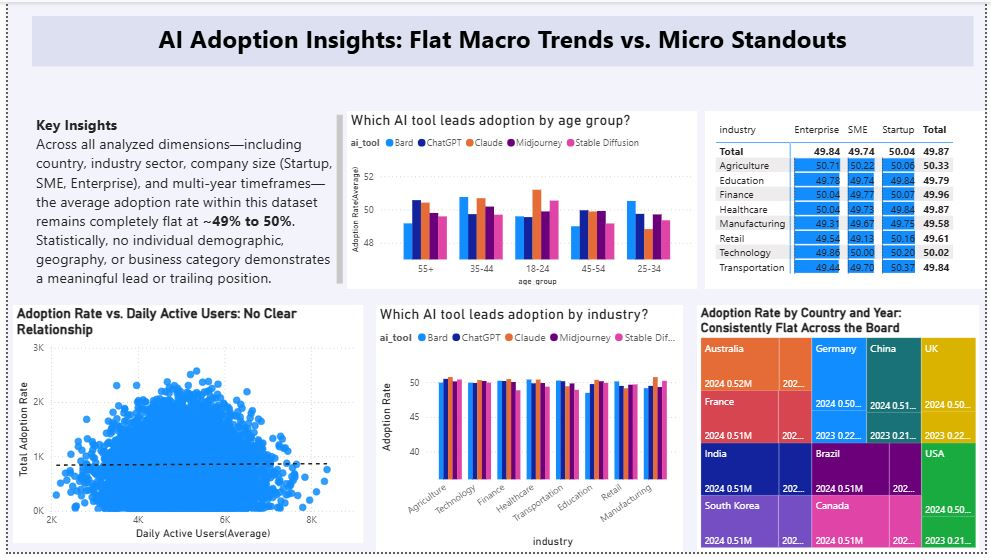

Layout of this report page (visuals, bound fields, positions):
{"tool":"powerbi","page":{"name":"Page 1","canvas":[1280,720],"ordinal":0},"visuals":[{"type":"clusteredColumnChart","title":"Which AI tool leads adoption by industry?","fields":{"Y":["Avg(ADOPTION.adoption_rate)"],"Series":["ADOPTION.ai_tool"],"Category":["ADOPTION.industry"]},"box":[482.4,397.4,401.8,322.6],"z":0},{"type":"treemap","title":"Adoption Rate by Country and Year: Consistently Flat Across the Board","fields":{"Group":["Change By Country.country"],"Details":["Change By Country.year"],"Values":["Sum(Change By Country.adoption_rate)"]},"box":[902.9,397.4,370.1,322.6],"z":1000},{"type":"pivotTable","fields":{"Columns":["Adoption by company size.company_size"],"Rows":["Adoption by company size.industry"],"Values":["Avg(Adoption by company size.adoption_rate)"]},"box":[913,142.6,367.2,233.3],"z":2000},{"type":"scatterChart","title":"Adoption Rate vs. Daily Active Users: No Clear Relationship","fields":{"Category":["relation bw active users and rate.adoption_rate"],"X":["Avg(relation bw active users and rate.daily_active_users)"],"Y":["Sum(relation bw active users and rate.adoption_rate)"]},"box":[7.2,397.4,459.4,312.5],"z":3000},{"type":"clusteredColumnChart","title":"Which AI tool leads adoption by age group?","fields":{"Category":["Agegroup vs tool.age_group"],"Series":["Agegroup vs tool.ai_tool"],"Y":["Avg(Agegroup vs tool.adoption_rate)"]},"box":[443.5,142.6,459.4,233.3],"z":4000},{"type":"textbox","box":[31.7,18.7,1232.6,66.2],"z":5001},{"type":"textbox","box":[32,143,412,233],"z":5002}]}

Visuals, with their boxes in screenshot pixels (x1, y1, x2, y2), scaled from the page's 1280x720 canvas onto the 991x560 screenshot:
"Which AI tool leads adoption by industry?" clusteredColumnChart: [373, 309, 685, 559]
"Adoption Rate by Country and Year: Consistently Flat Across the Board" treemap: [699, 309, 986, 559]
pivotTable - Adoption by company size.company_size x Adoption by company size.industry: [707, 111, 990, 292]
"Adoption Rate vs. Daily Active Users: No Clear Relationship" scatterChart: [6, 309, 361, 552]
"Which AI tool leads adoption by age group?" clusteredColumnChart: [343, 111, 699, 292]
textbox: [25, 15, 979, 66]
textbox: [25, 111, 344, 292]
